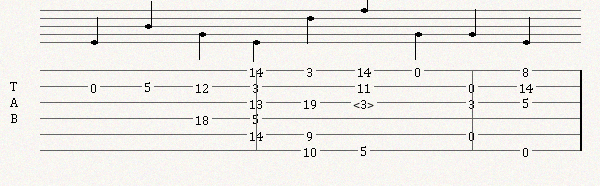0: (90, 80, 101, 93), (414, 64, 425, 77), (468, 128, 479, 141), (468, 80, 479, 93), (522, 144, 533, 157)
10: (303, 144, 321, 157)
11: (357, 80, 375, 93)
12: (195, 80, 213, 93)
13: (249, 96, 267, 109)
14: (249, 128, 267, 141), (249, 64, 267, 77), (357, 64, 375, 77), (519, 80, 537, 93)
18: (195, 112, 213, 125)
19: (303, 96, 321, 109)
3: (252, 80, 263, 93), (306, 64, 317, 77), (468, 96, 479, 109)
5: (144, 79, 155, 93), (252, 111, 263, 125), (360, 143, 371, 157), (522, 95, 533, 109)
8: (522, 64, 533, 77)
9: (306, 128, 317, 141)
harmonic: (353, 96, 378, 109)
